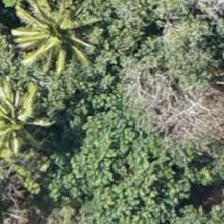coconut_tree: (13, 0, 103, 90), (0, 86, 51, 176)
